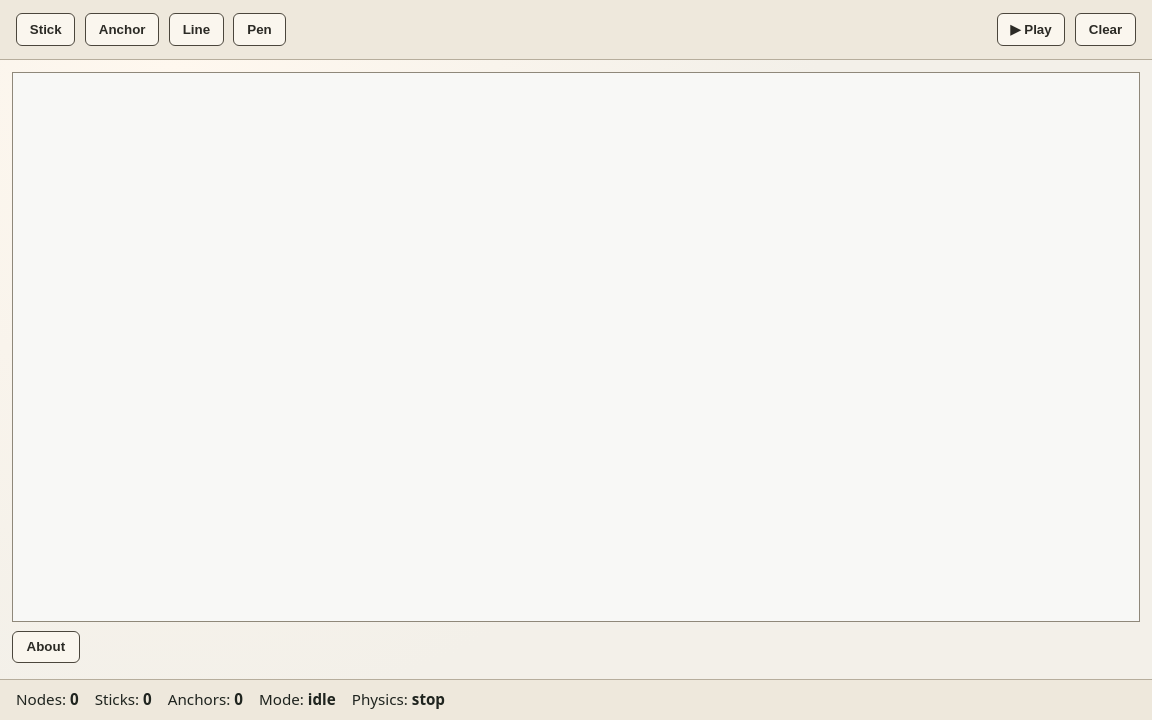
Test: App integration › snaps a second stick endpoint to an existing pivot and creates a shared hinge
The image size is (1152, 720).
Click the button with test id "tool-stick" at point(46, 29), box [16,13,76,46]
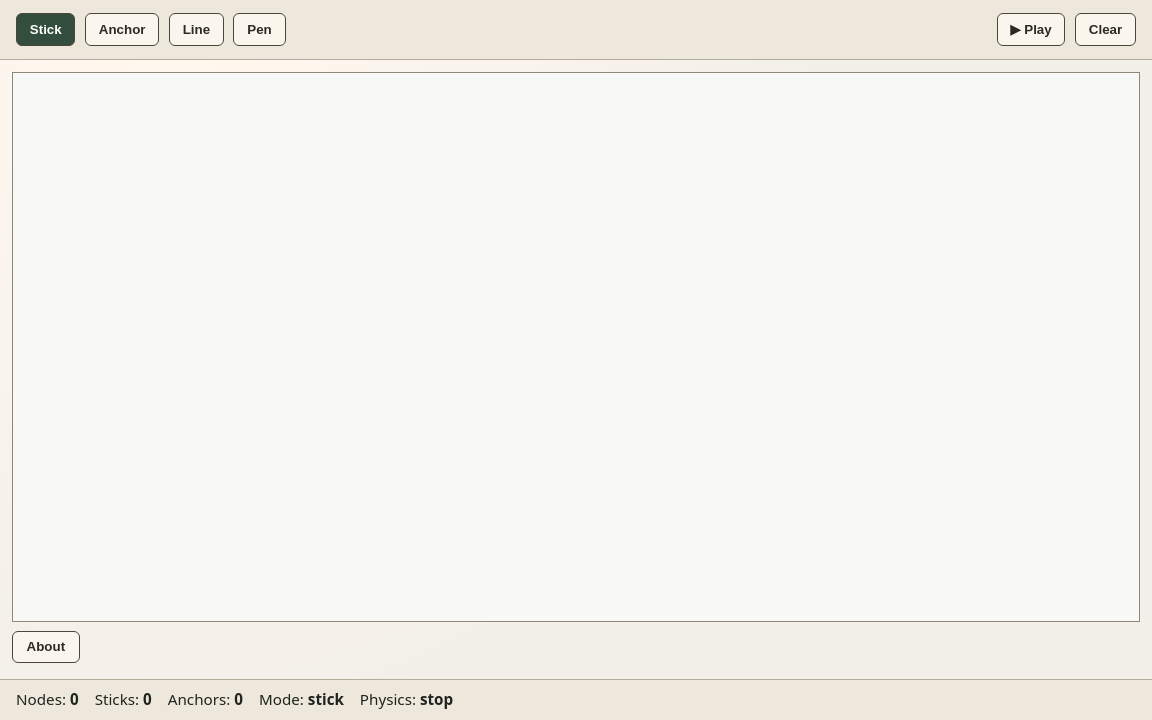
Press the mouse on the drawing with test id "linkage-canvas" at point(576, 347), box [12,72,1140,622]
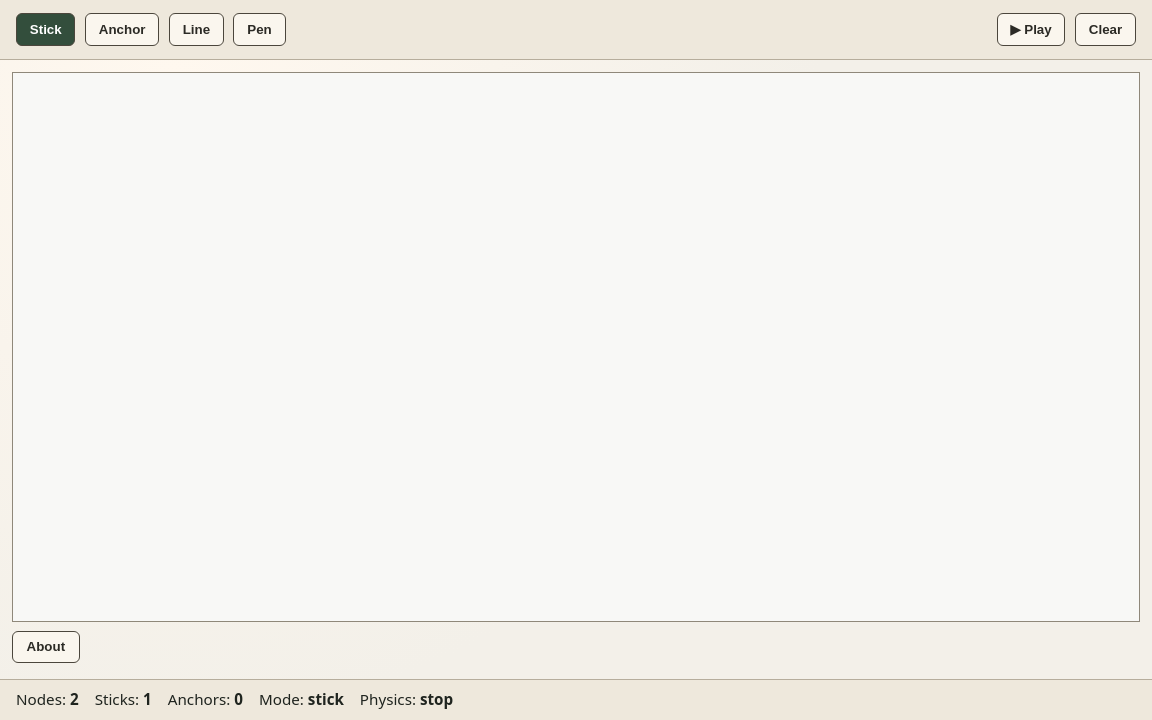
Press the mouse on the drawing with test id "linkage-canvas" at point(576, 347), box [12,72,1140,622]
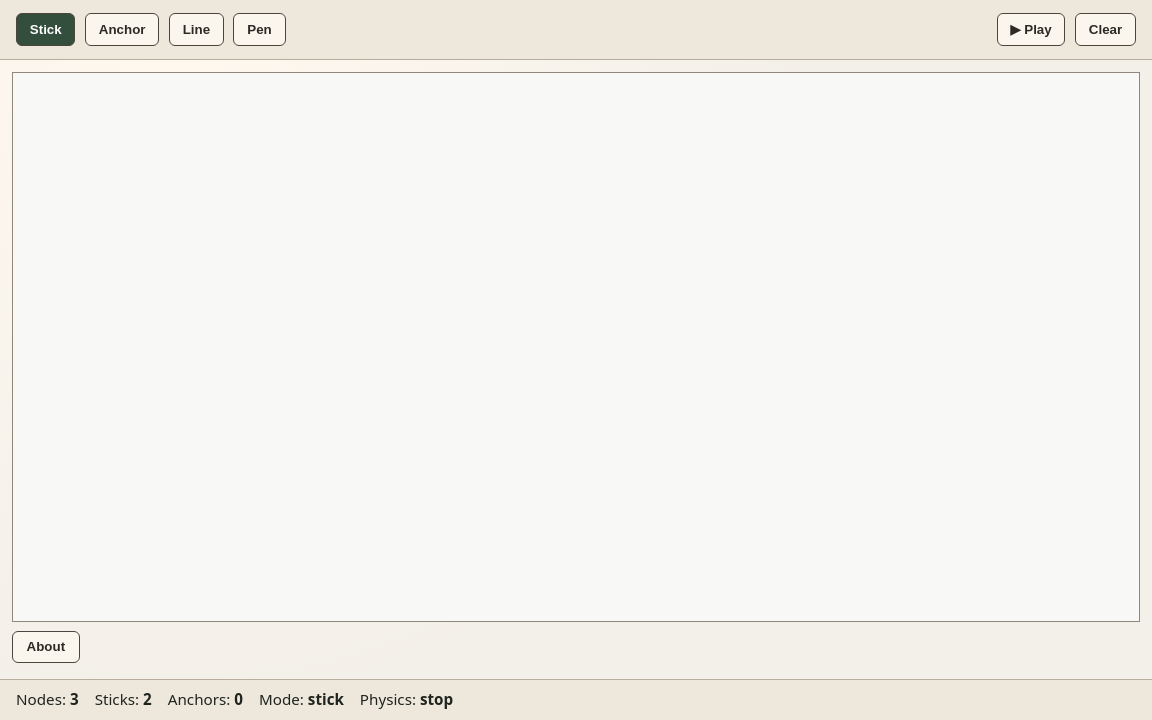
Check: the text with test id "stick-count" reads "2", box [143,689,152,709]
Check: the text with test id "node-count" reads "3", box [70,689,79,709]
